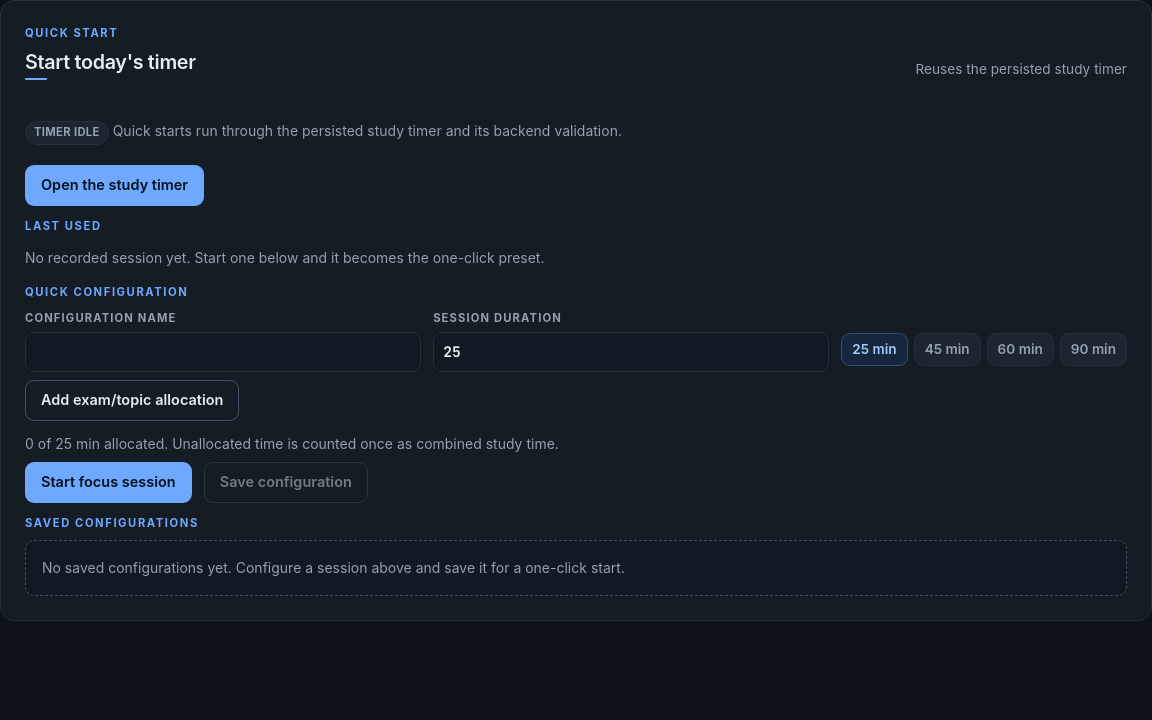
Test: QuickStartSection › rejects allocations that exceed the session duration
Expected: the text "Timer idle" is shown, top-left (25, 121), bottom-right (109, 145)
Step 1. Click the button with aria-label "Plan a 25 minute session" → click(874, 350), box top-left (841, 333), bottom-right (908, 366)
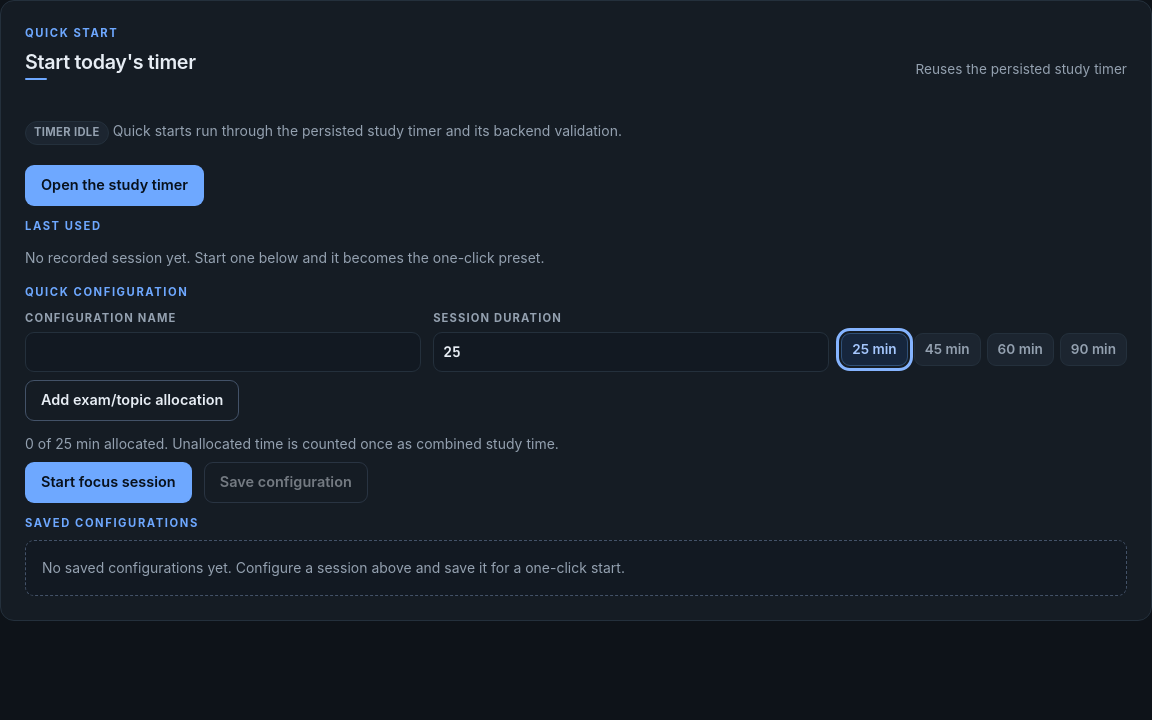
Step 2. Click the button "Add exam/topic allocation" → click(132, 400), box top-left (25, 380), bottom-right (239, 421)
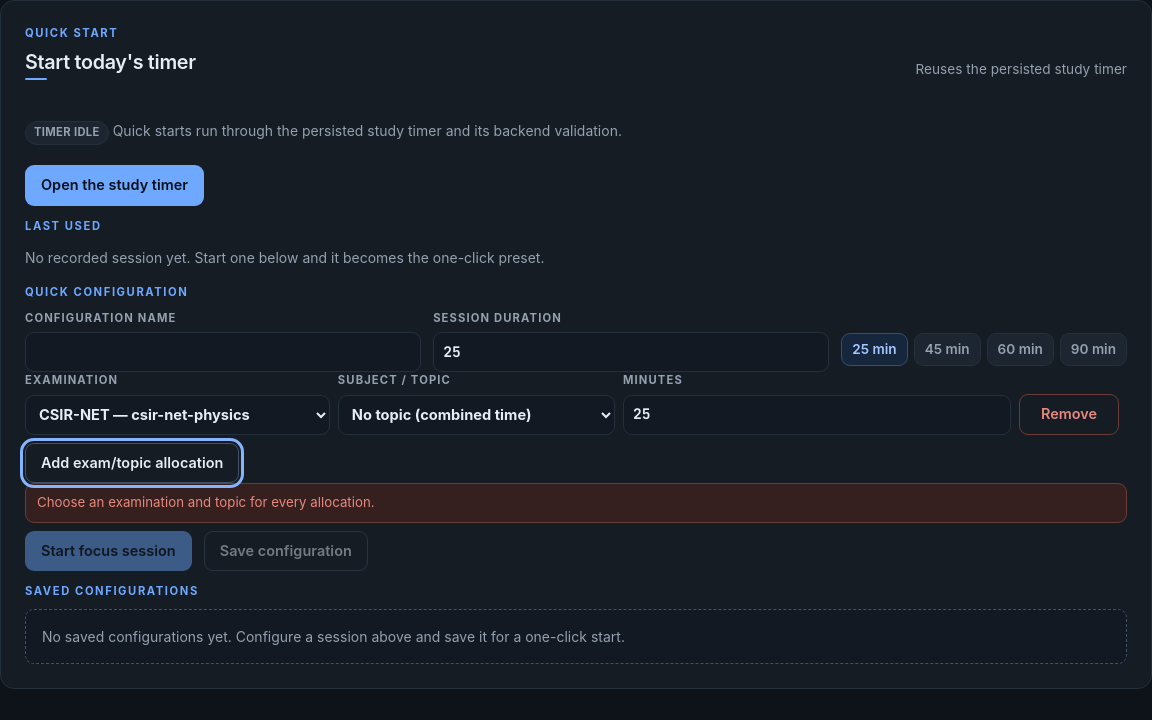
Step 3. Select "Electromagnetism" in the dropdown labelled "Subject / topic" → (476, 415), box top-left (338, 395), bottom-right (615, 435)
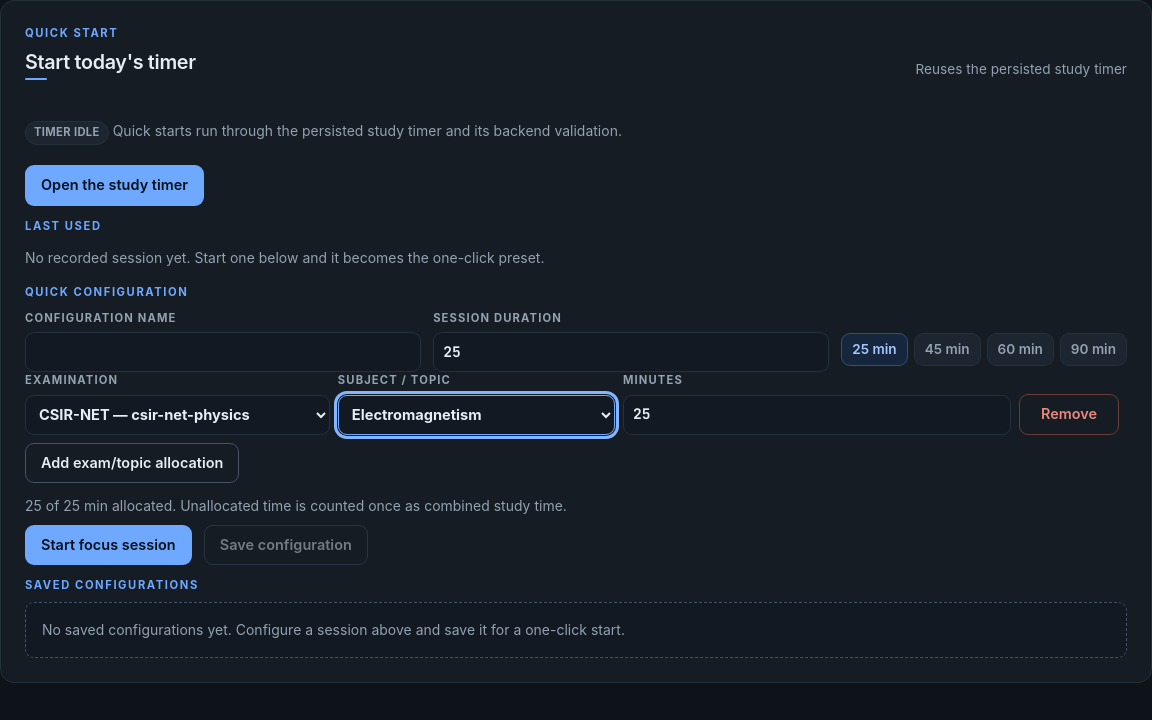
Step 4. Replace the text in the number field labelled "Minutes" with "45" → (817, 415), box top-left (623, 395), bottom-right (1011, 435)
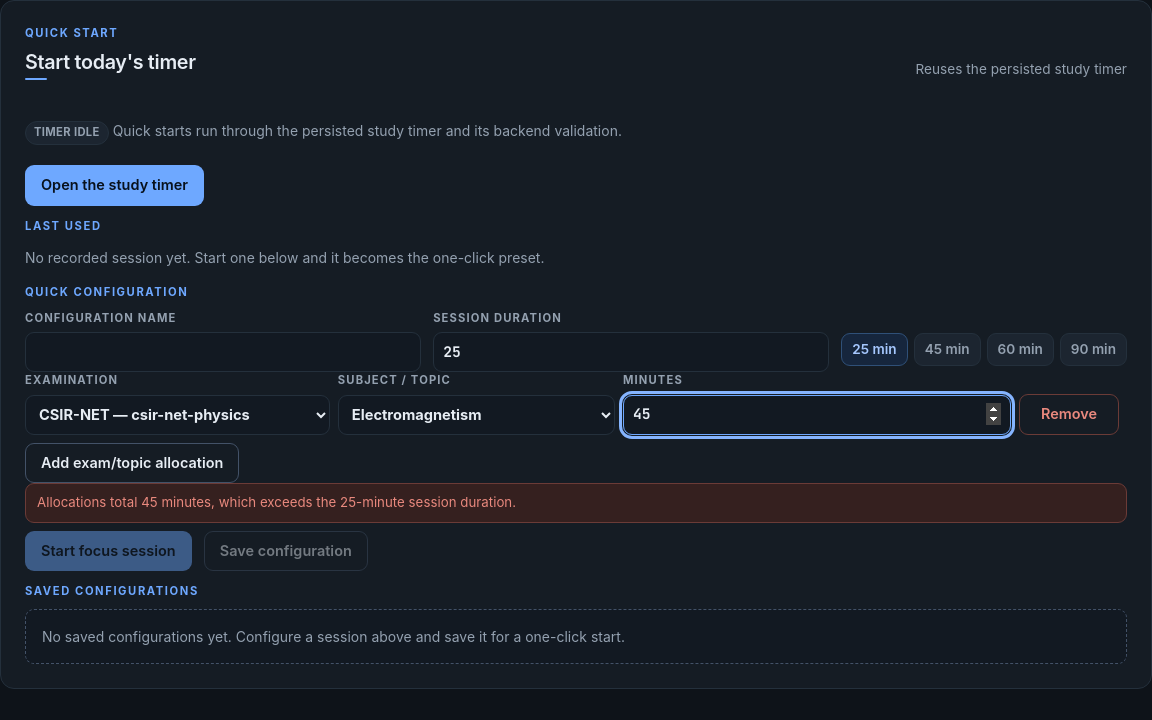
Expected: the button "Start focus session" is disabled, top-left (25, 531), bottom-right (192, 571)
Expected: the text "Allocations total 45 minutes, which exceeds the 25-minute session duration." is shown, top-left (25, 483), bottom-right (1127, 523)
